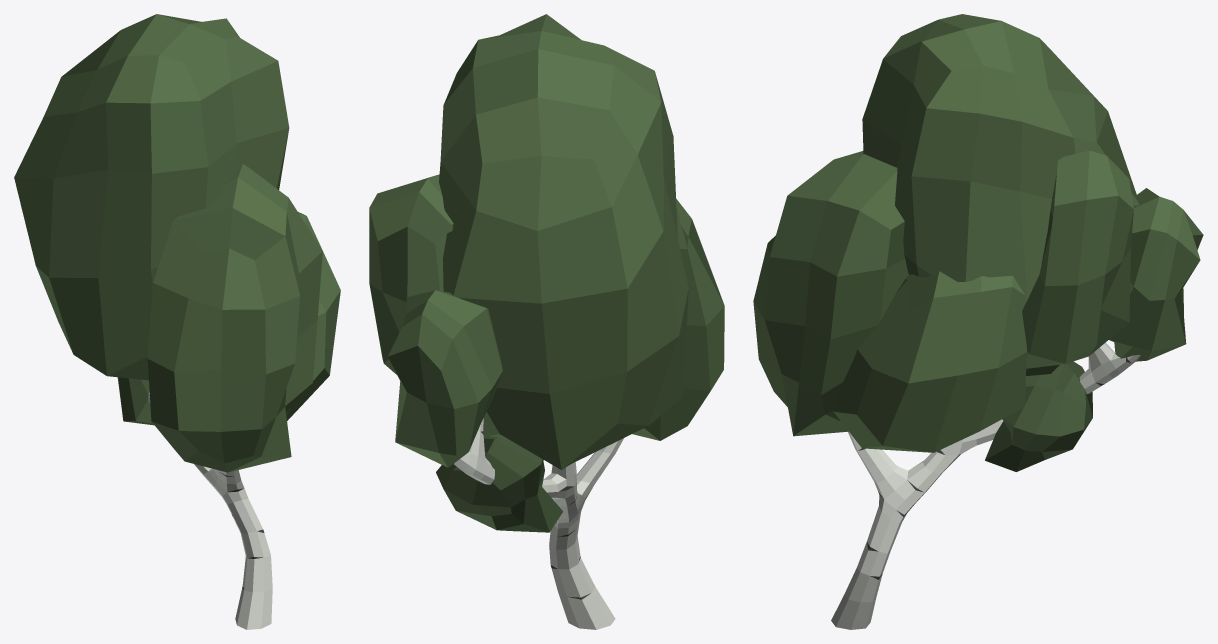
The model's file is q_tree_birch_1.gltf.
The picture shows the model from 3 angles, left to right: view 1: azimuth 30°, elevation 25°; view 2: azimuth 150°, elevation 25°; view 3: azimuth 270°, elevation 25°; orthographic projection. The views are drawn at different scales.
Parts seen in each view (by area): view 1: BirchTree_1; view 2: BirchTree_1; view 3: BirchTree_1.
Boxes of the visible parts, x1,y1,x2,y2 form: BirchTree_1: (14,14,340,629); BirchTree_1: (369,14,724,629); BirchTree_1: (753,14,1203,629).
Bounding box in the file's own units: 4.25 × 8.93 × 6.2.
